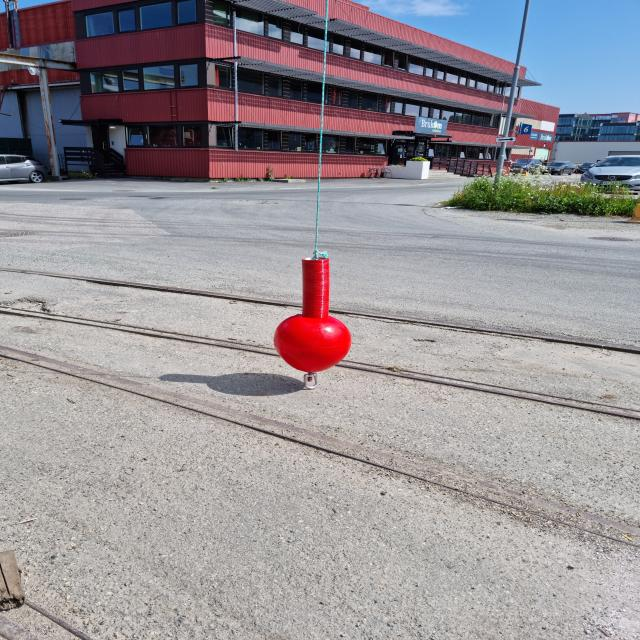red: (276, 256, 352, 372)
